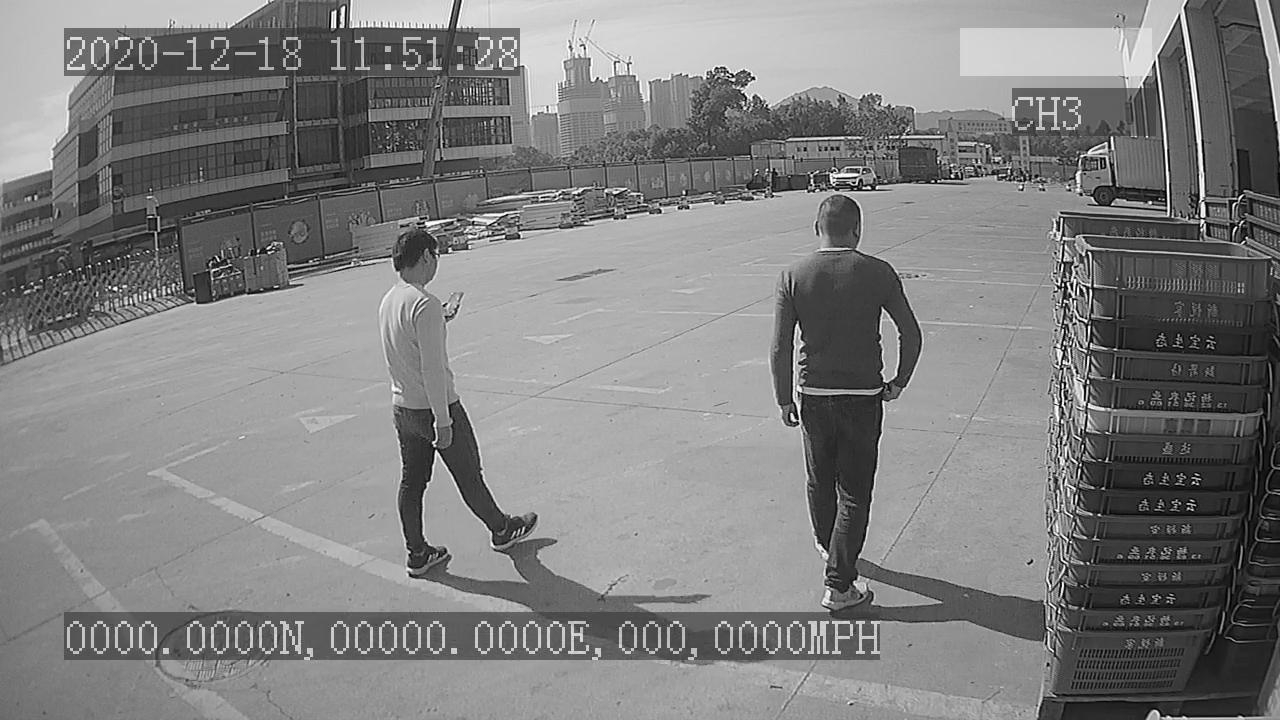person: (763, 192, 929, 613), (372, 217, 547, 585)
